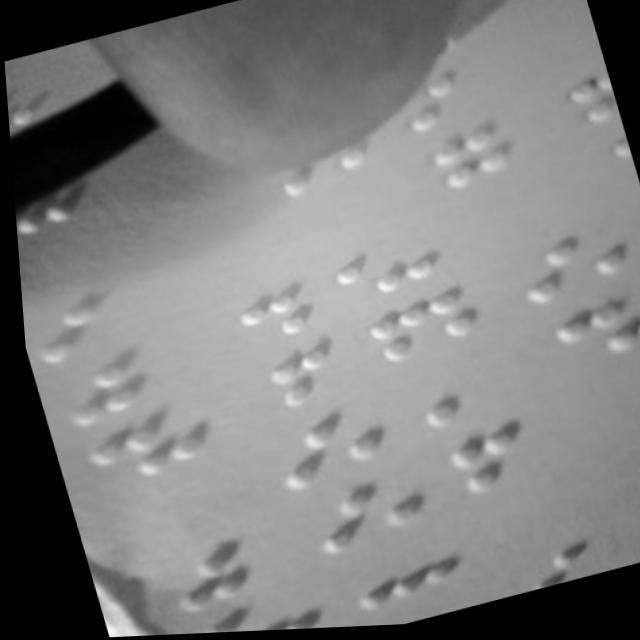braiile: (16, 276, 151, 372), (148, 527, 288, 619), (431, 413, 565, 507), (354, 285, 486, 379), (252, 406, 386, 498), (500, 226, 634, 317), (74, 403, 207, 492), (294, 474, 424, 564), (326, 530, 453, 619), (45, 346, 177, 431), (311, 224, 443, 309), (419, 112, 547, 198), (497, 516, 627, 597), (524, 293, 640, 383), (395, 360, 517, 438), (181, 587, 312, 635), (594, 415, 640, 508)
